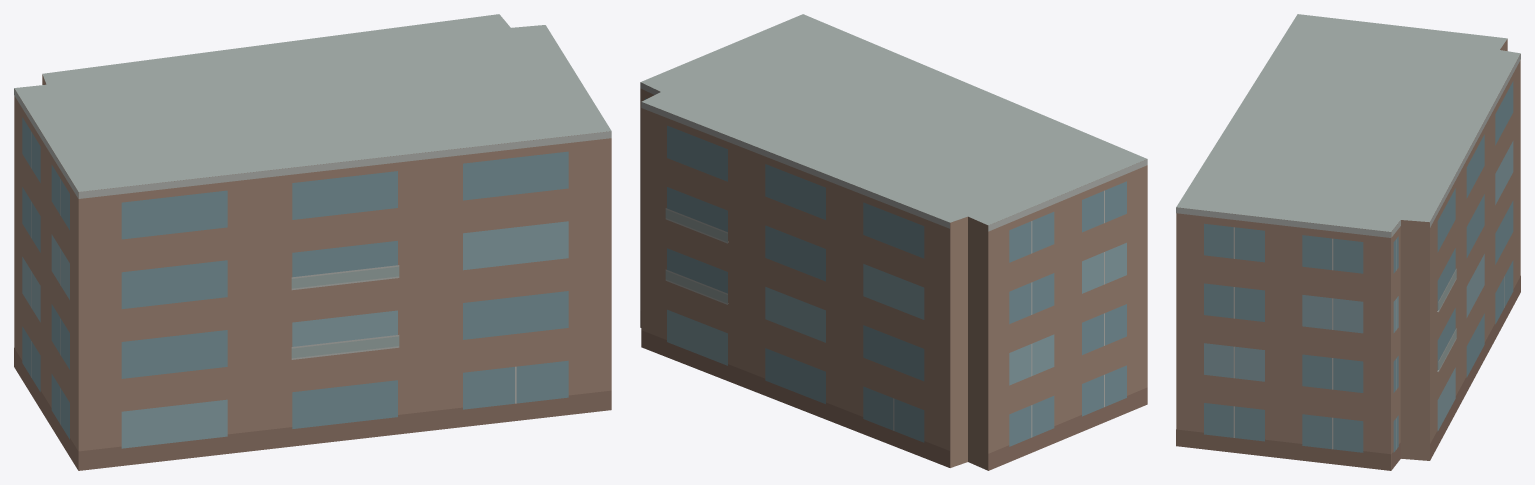
Rendered from survey-upis-32980981.glb.
3 renders of one model, left to right at view 1: azimuth 30°, elevation 25°; view 2: azimuth 150°, elevation 25°; view 3: azimuth 270°, elevation 25°, orthographic. The views are drawn at different scales.
Parts seen in each view (by area): view 1: survey-upis-32980981.tmp; view 2: survey-upis-32980981.tmp; view 3: survey-upis-32980981.tmp.
Boxes of the visible parts, x1,y1,x2,y2 form: survey-upis-32980981.tmp: (14, 14, 611, 470); survey-upis-32980981.tmp: (640, 14, 1147, 470); survey-upis-32980981.tmp: (1176, 14, 1520, 470).
Bounding box in the file's own units: 19 × 9.7 × 12.7.
